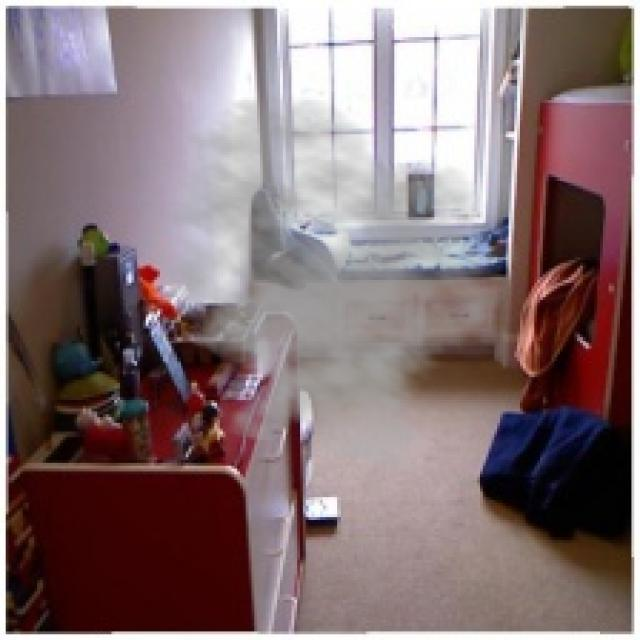smoke: (123, 91, 523, 472)
